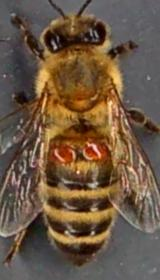varroa_mite: (47, 140, 81, 162), (76, 138, 105, 162)
